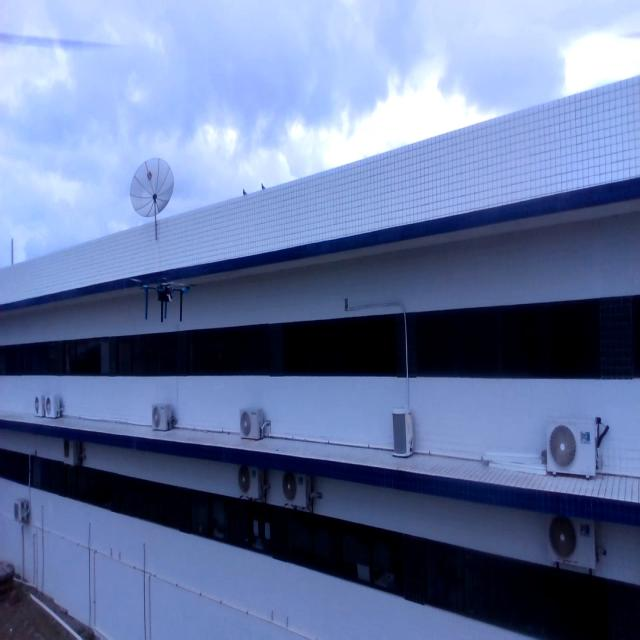-uav-: (121, 259, 205, 345)
